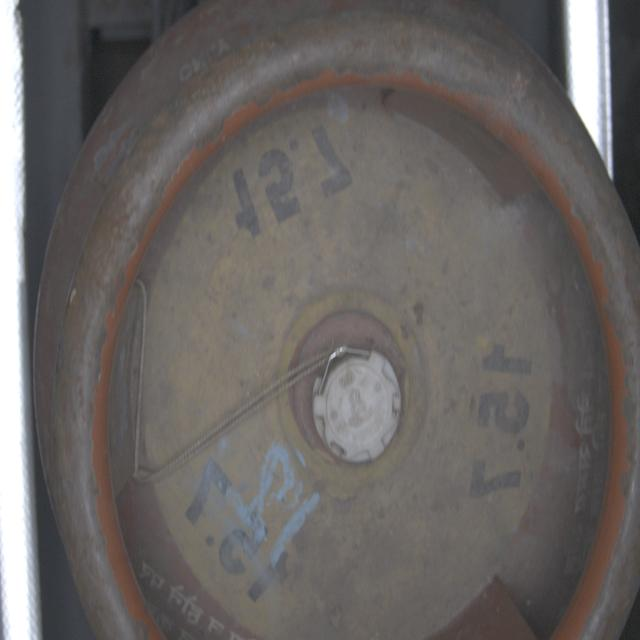Cap: (312, 347, 403, 469)
